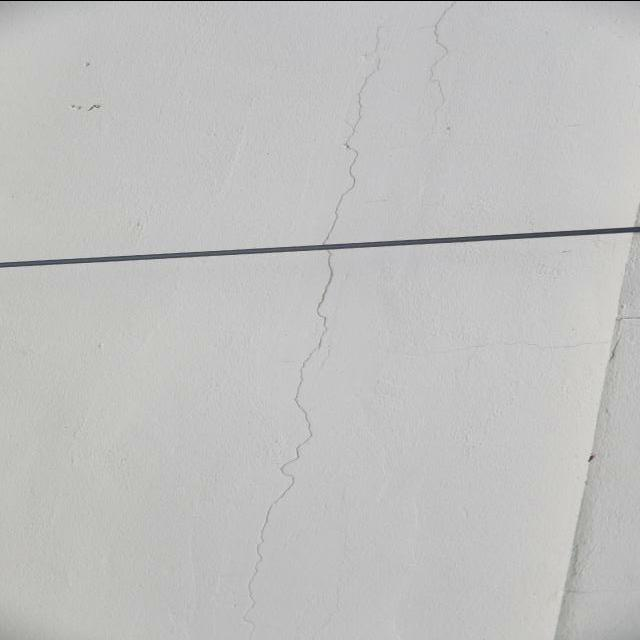SurfaceCrack: (211, 249, 355, 639)
